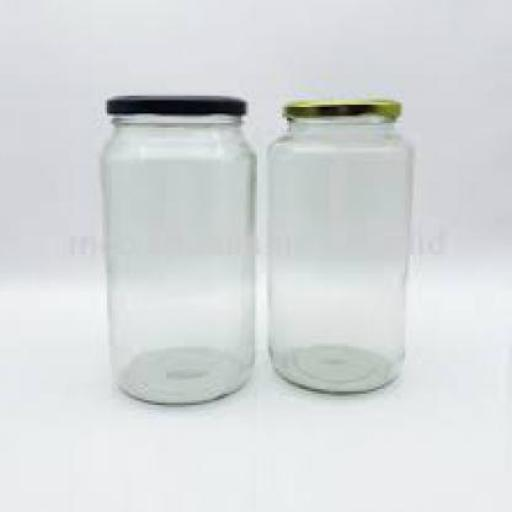glass: (102, 112, 262, 400), (273, 116, 414, 394)
metal: (107, 94, 247, 113), (287, 99, 405, 118)
